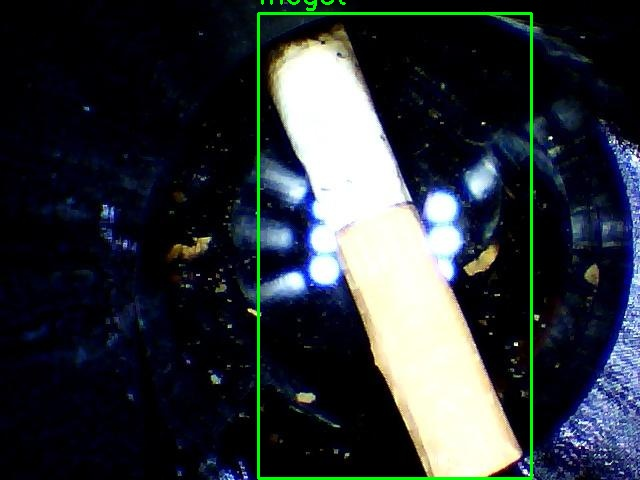megot: (258, 13, 531, 478)
